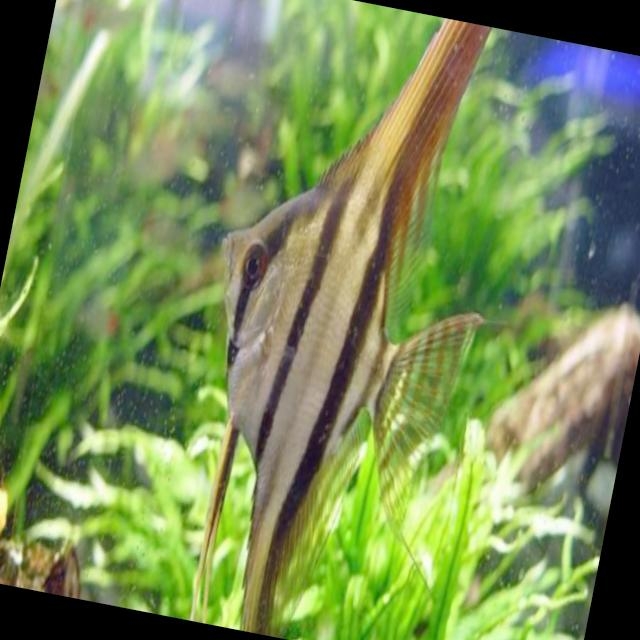AngelFish: (157, 0, 540, 640)
